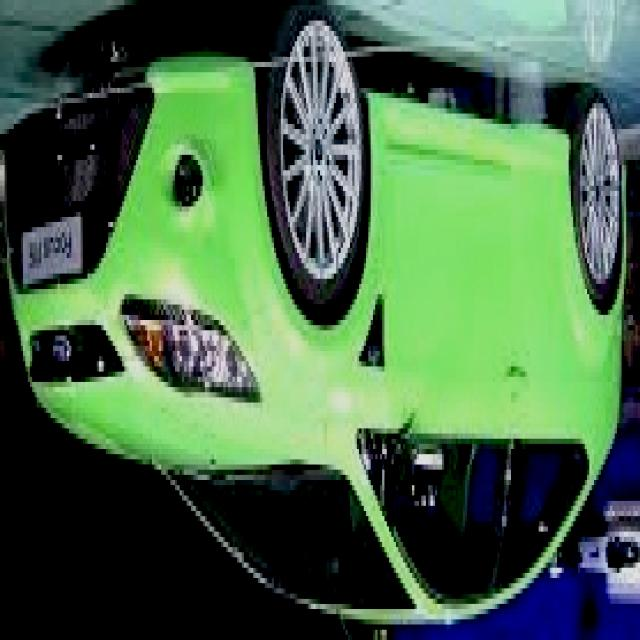green: (4, 0, 626, 621)
